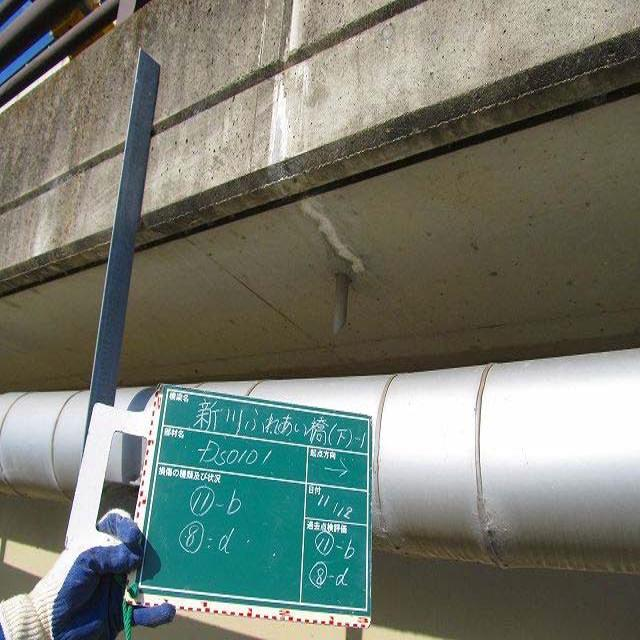freelime: (258, 0, 368, 283)
